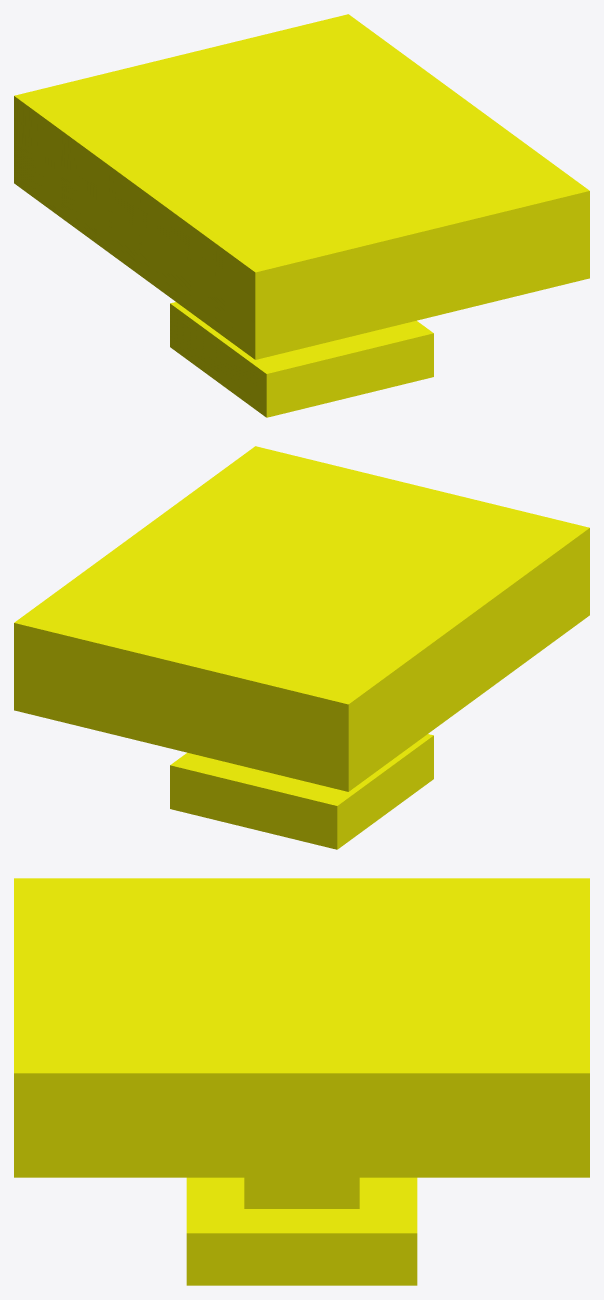
Rendered from voxel-knights-stool.glb.
3 views of the same model, one above another, from view 1: azimuth 30°, elevation 25°; view 2: azimuth 150°, elevation 25°; view 3: azimuth 270°, elevation 25° (orthographic). The views are drawn at different scales.
Parts seen in each view (by area): view 1: ObjObject.023; view 2: ObjObject.023; view 3: ObjObject.023.
Part boxes in pixels (bbox=[...]): ObjObject.023: bbox=[14, 14, 589, 417]; ObjObject.023: bbox=[14, 446, 589, 849]; ObjObject.023: bbox=[14, 878, 589, 1285].
Bounding box in the file's own units: 0.8 × 0.4999 × 1.
